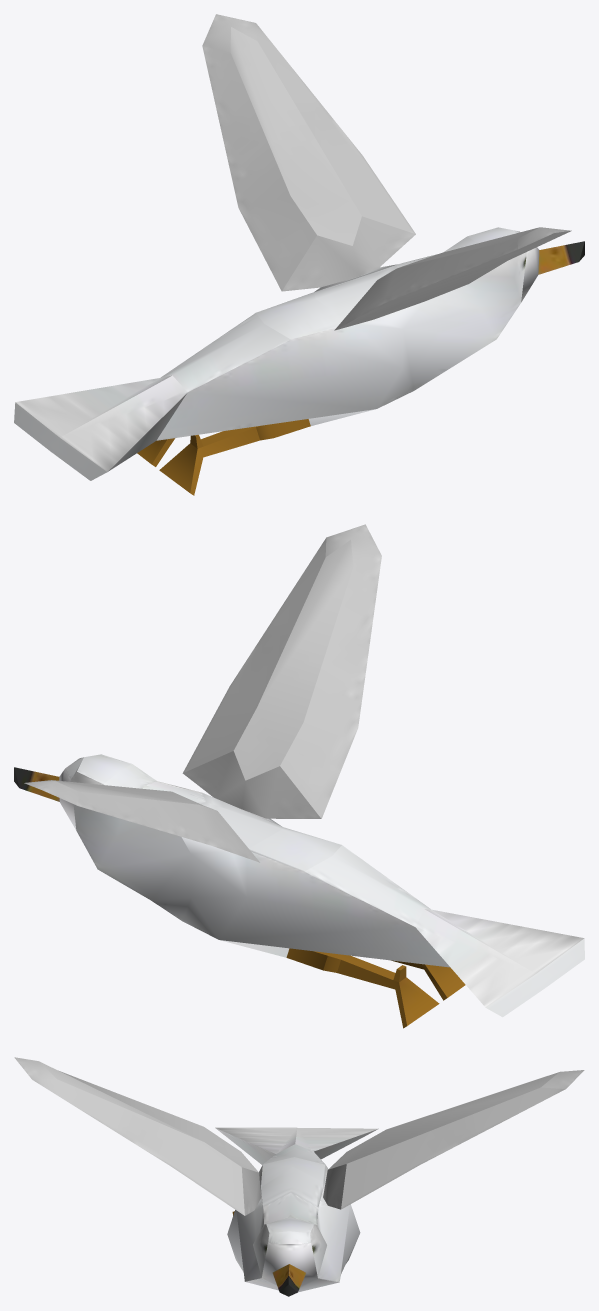
The model's file is animals-flying-seagull-096.glb.
3 views of the same model, one above another, from view 1: azimuth 30°, elevation 25°; view 2: azimuth 150°, elevation 25°; view 3: azimuth 270°, elevation 25° (orthographic). The views are drawn at different scales.
Parts seen in each view (by area): view 1: Flying_seagull; view 2: Flying_seagull; view 3: Flying_seagull.
Part boxes in pixels (x1,y1,x2,y2): Flying_seagull: (14,14,584,495); Flying_seagull: (14,524,584,1028); Flying_seagull: (14,1057,584,1296).
Bounding box in the file's own units: 82.16 × 44.24 × 88.47.
1 material, 1 textured.
